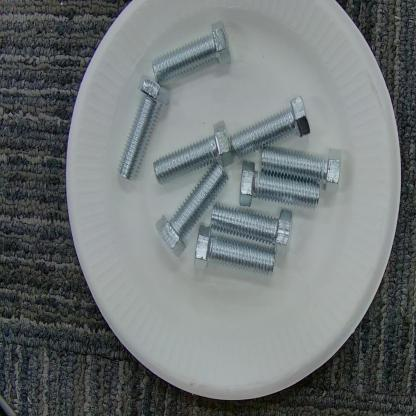FOD: (114, 20, 342, 274)
